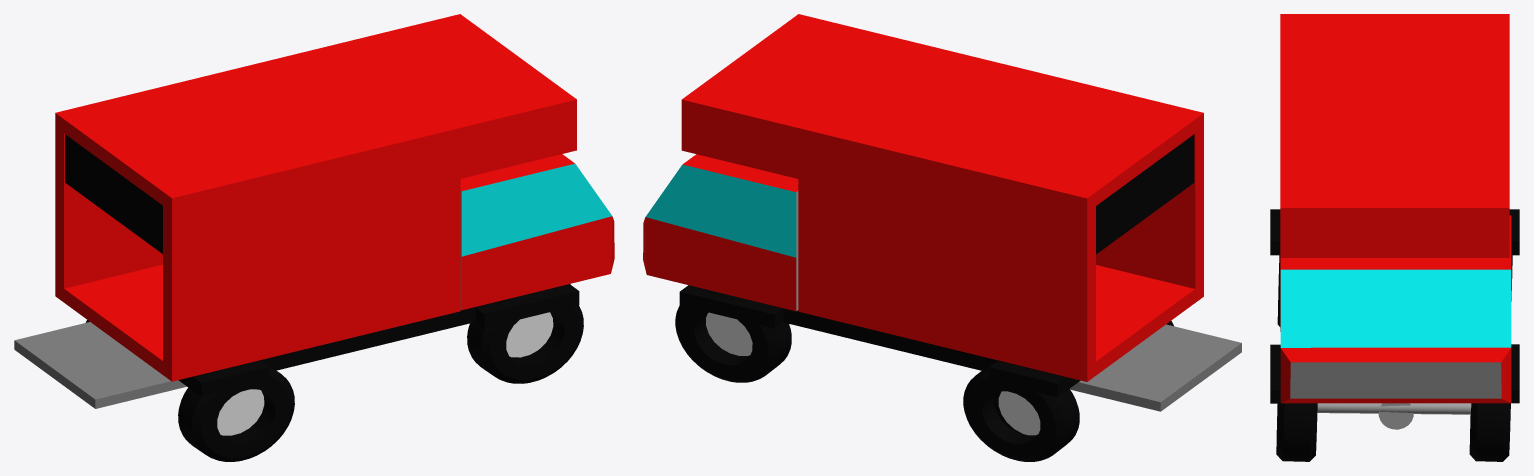
The model's file is camion2.fbx.
3 views of the same model, side by side, from view 1: azimuth 30°, elevation 25°; view 2: azimuth 150°, elevation 25°; view 3: azimuth 270°, elevation 25° (orthographic). The views are drawn at different scales.
Parts seen in each view (by area): view 1: pasted__camion; view 2: pasted__camion; view 3: pasted__camion.
Boxes of the visible parts, <box> form: pasted__camion: <box>14,14,614,461</box>; pasted__camion: <box>643,14,1241,461</box>; pasted__camion: <box>1270,14,1519,461</box>.
Size of the model in its own units: 20.39 by 10.88 by 8.9.
